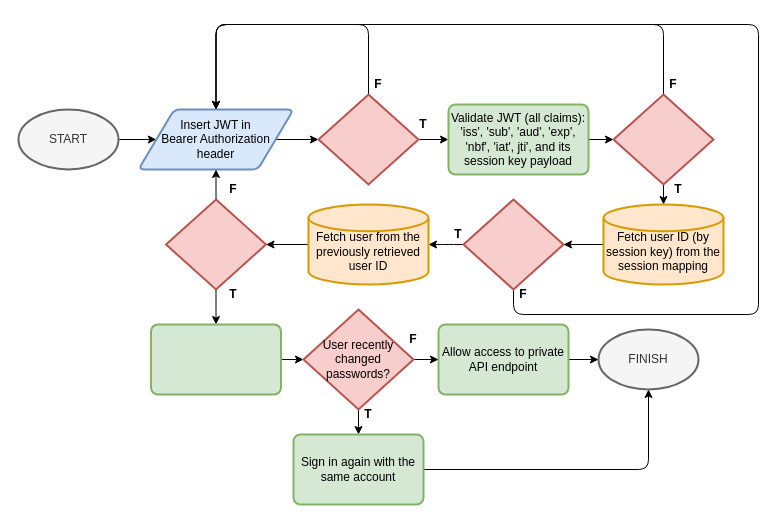
This 784x523 diagram has some shape labels left out. The shapes that lost their labels are listed below. From the top down, each one's centre as x and y in pixels, then its label:
At (x=368, y=139): "Valid Authorization header?".
At (x=663, y=139): "Valid JWT?".
At (x=215, y=244): "User exists in DB?".
At (x=513, y=244): "User exists with the session key?".
At (x=216, y=359): "Check if user has recently changed passwords".
